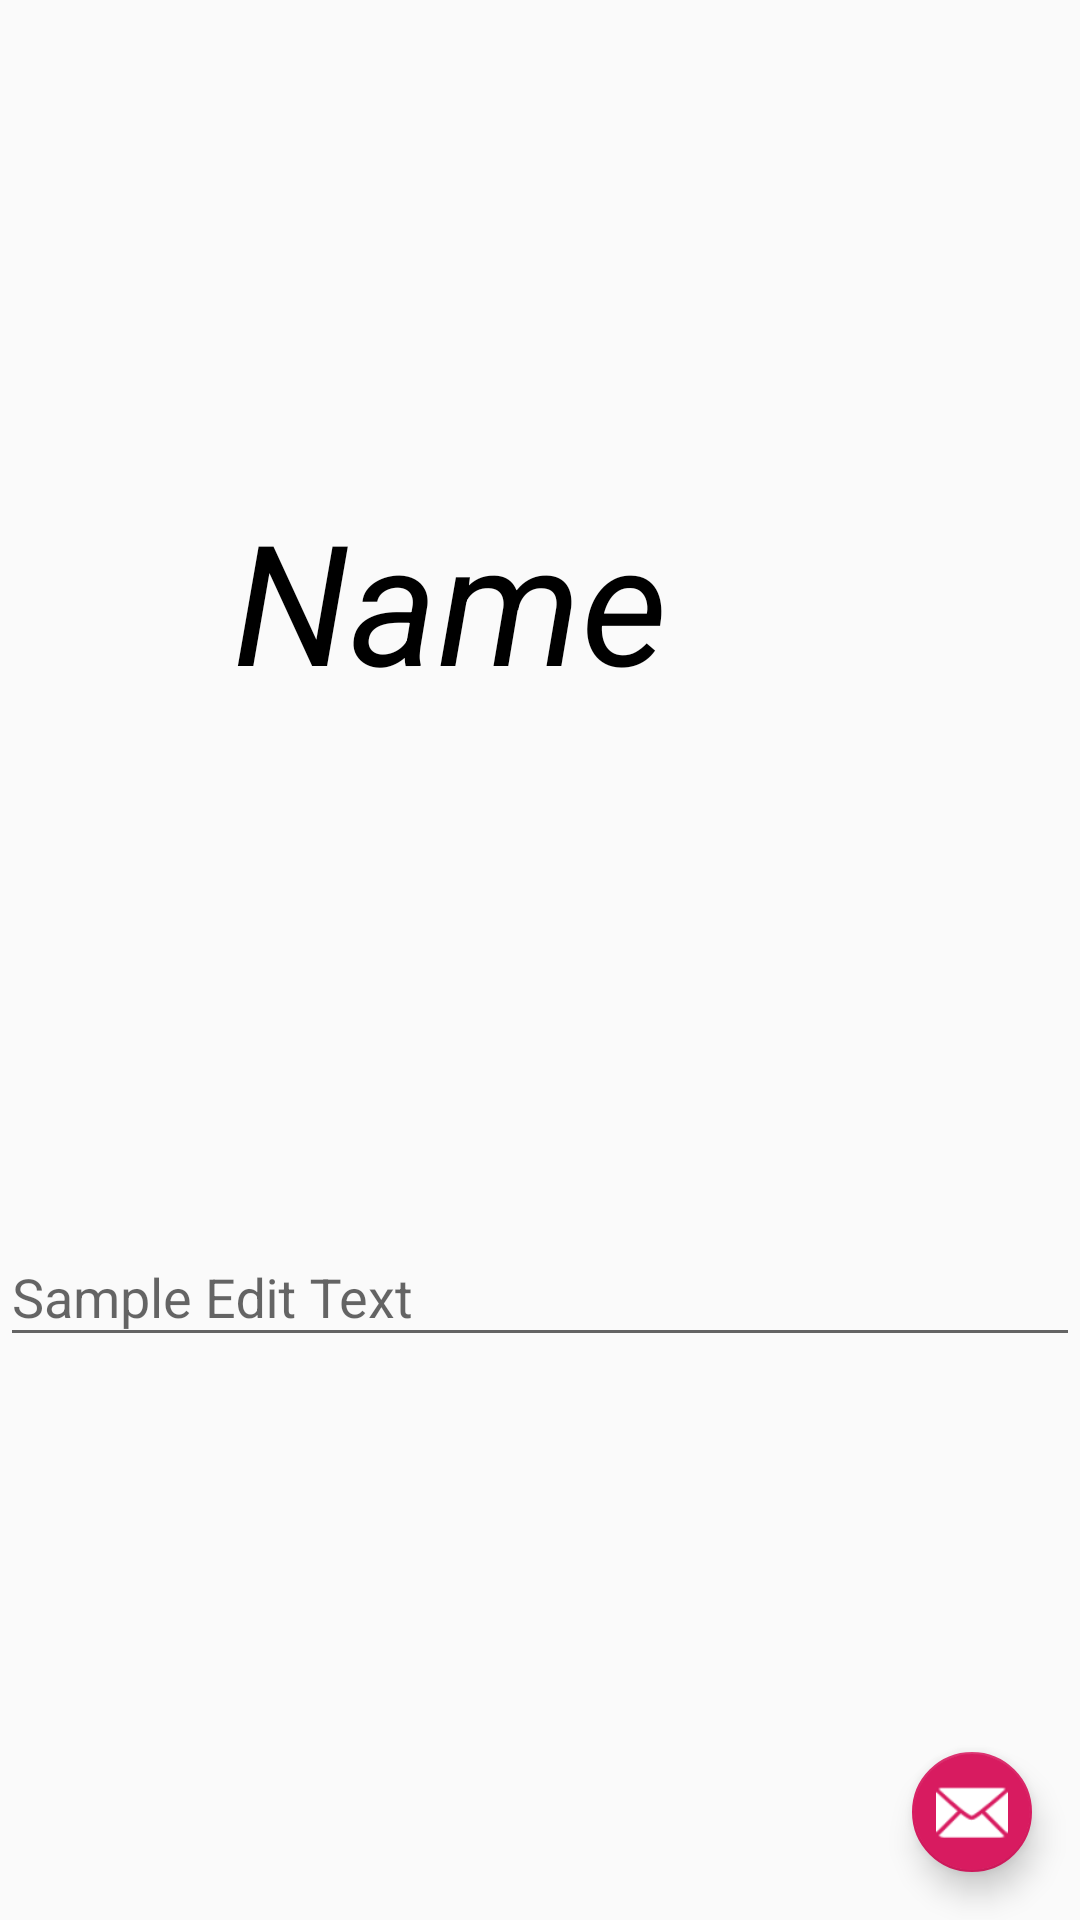

Icons on this 1080x1920 Android screen, each with the point to tap as point (x, y):
email: point (972, 1812)
